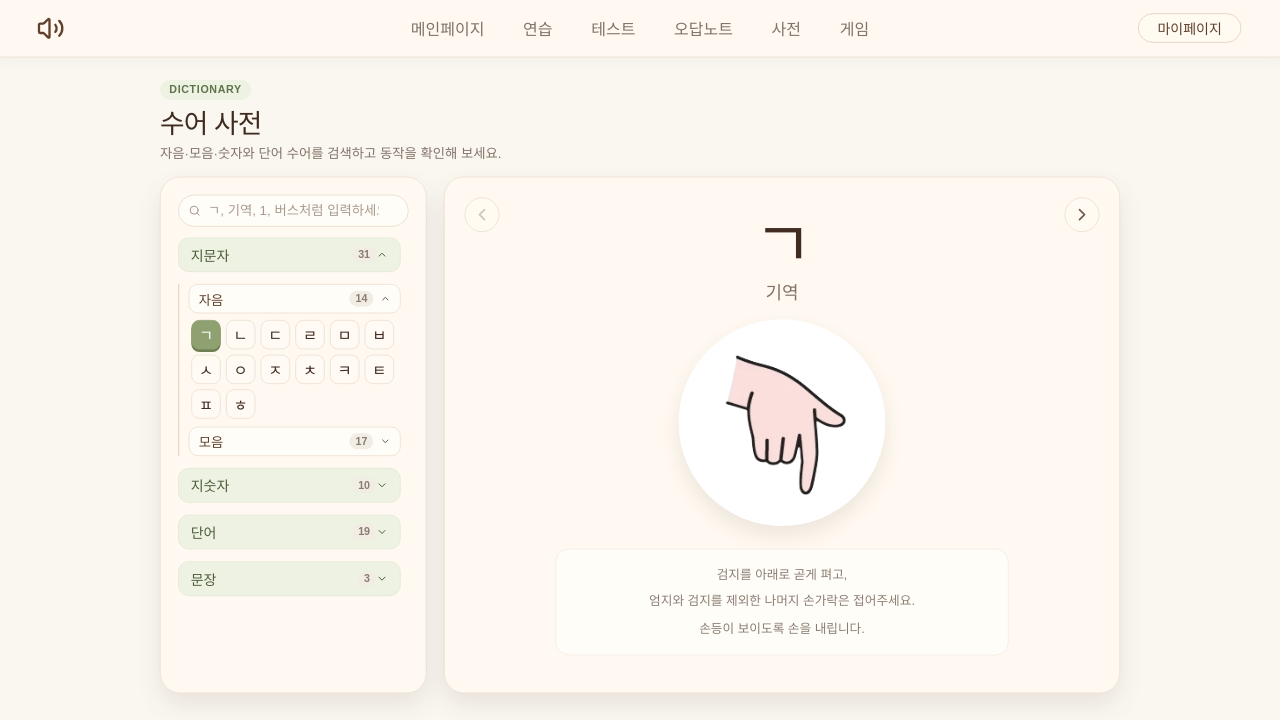
Test: DictionaryPage 분류 트리 › 칩을 클릭하면 상세가 바뀌고 선택 표시가 한 곳만 남는다
What coordinates should you click on to do the following:
click the button named "ㅎ 히읗"
I would click on:
 (241, 404)
Its box is [226, 389, 255, 419].
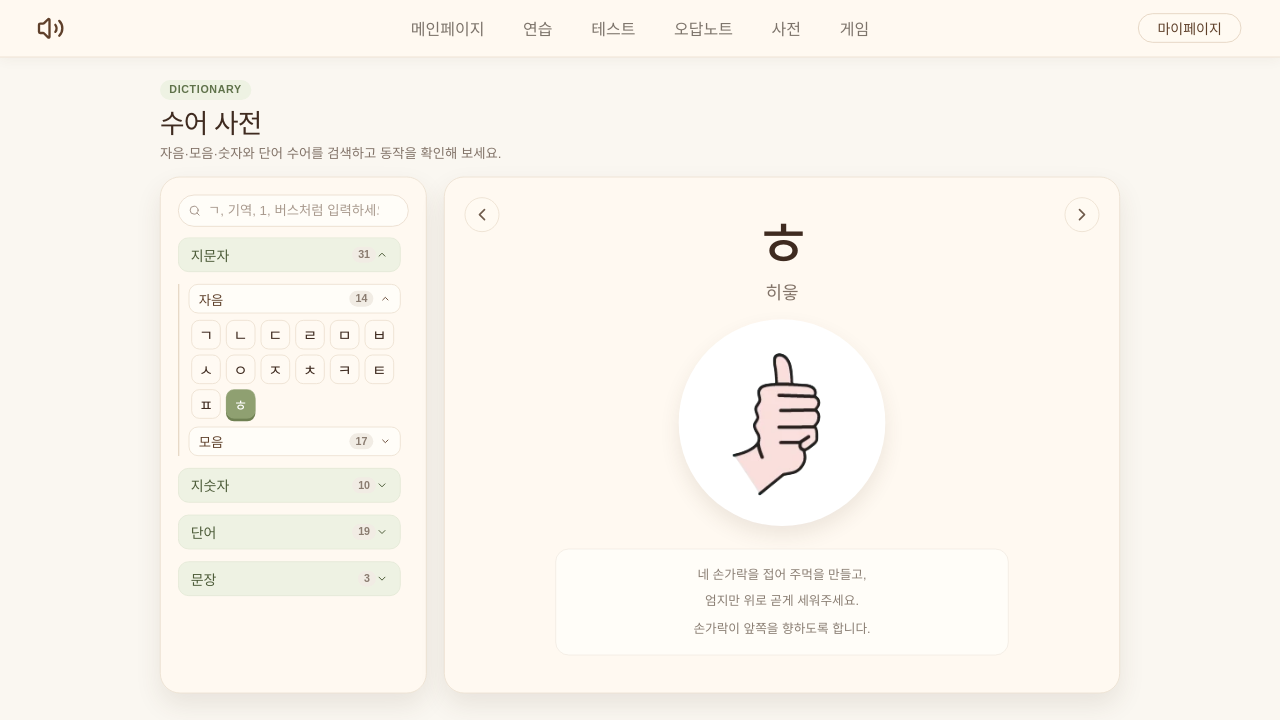
Check: the text "히읗" is shown, box [765, 278, 798, 304]
